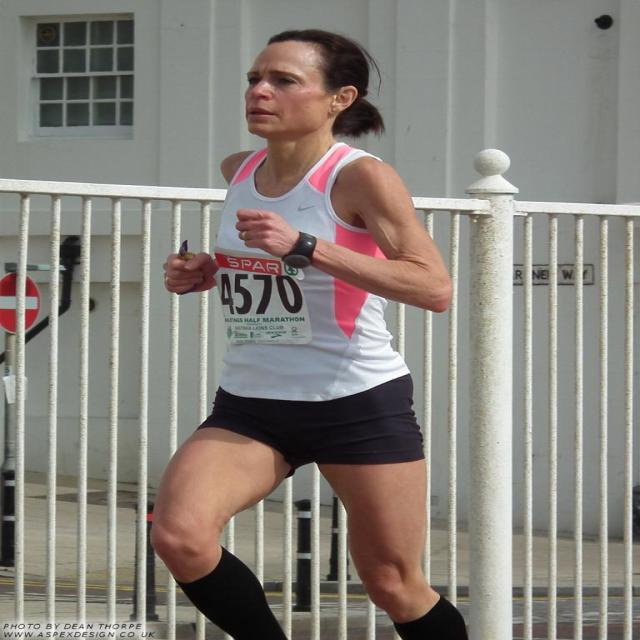Bib: (222, 274, 307, 322)
